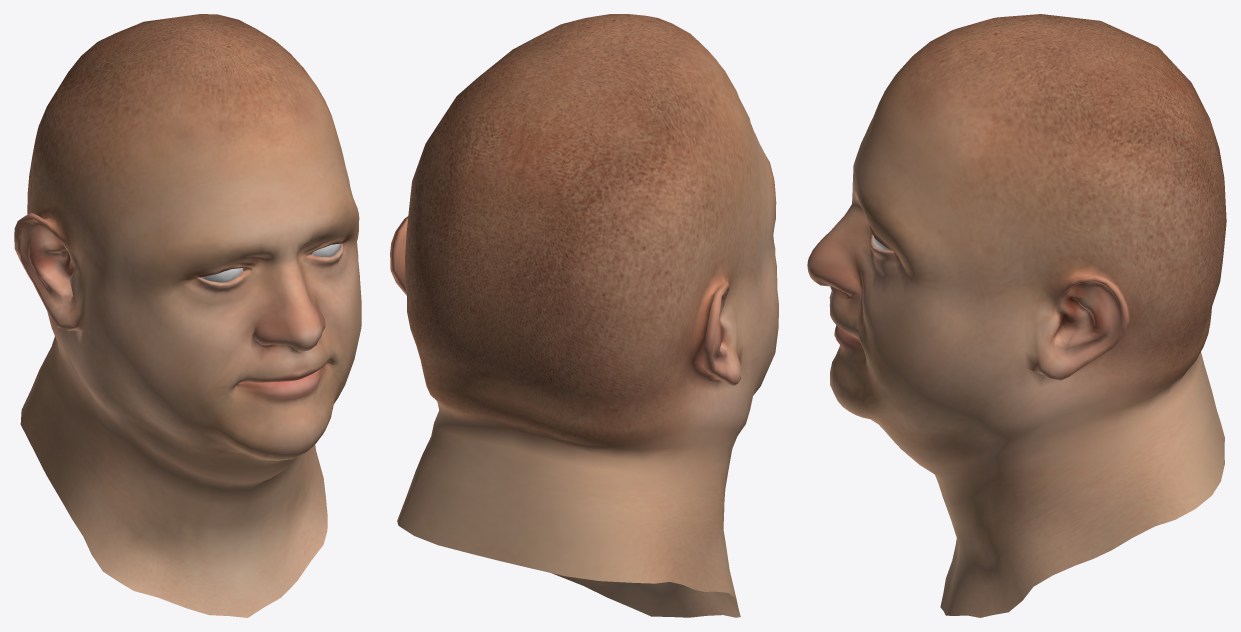
File: free_basemesh_head_fat_man.glb
The picture shows the model from 3 angles, left to right: view 1: azimuth 30°, elevation 25°; view 2: azimuth 150°, elevation 25°; view 3: azimuth 270°, elevation 25°; orthographic projection. The views are drawn at different scales.
Parts seen in each view (by area): view 1: HEAD_5, Eyes_low poly_4; view 2: HEAD_5; view 3: HEAD_5.
Boxes of the visible parts, box(x1,y1,x2,y2) form: HEAD_5: box(14, 14, 361, 617); Eyes_low poly_4: box(201, 243, 341, 282); HEAD_5: box(390, 14, 778, 617); HEAD_5: box(807, 14, 1226, 617).
Bounding box in the file's own units: 3.28 × 5.95 × 3.89.
Materials: 2 (1 with a texture image).
